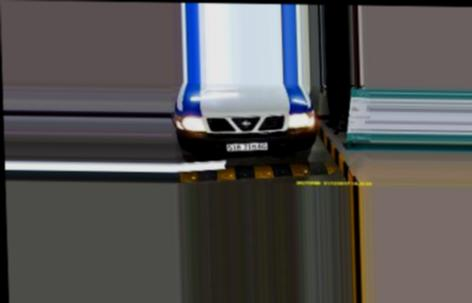License_Plate: (224, 140, 269, 155)
